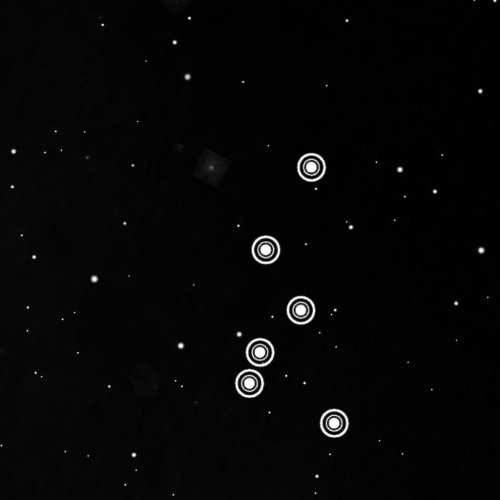cassiopeia: (227, 148, 355, 444)
